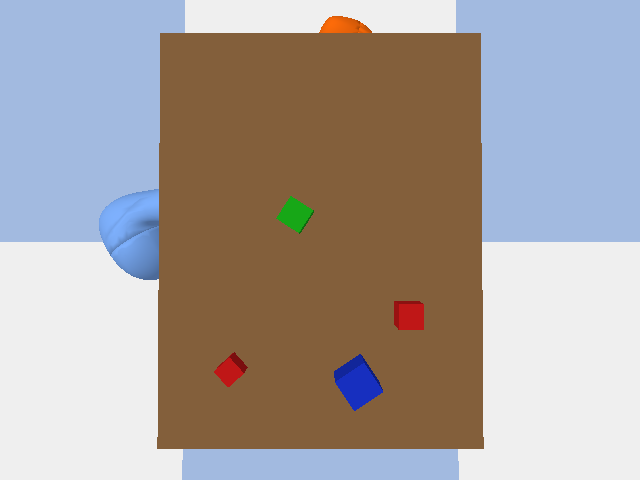blue_obj: (334, 354, 382, 410)
green_obj: (276, 196, 313, 233)
red_obj: (214, 352, 247, 386), (394, 301, 423, 329)
